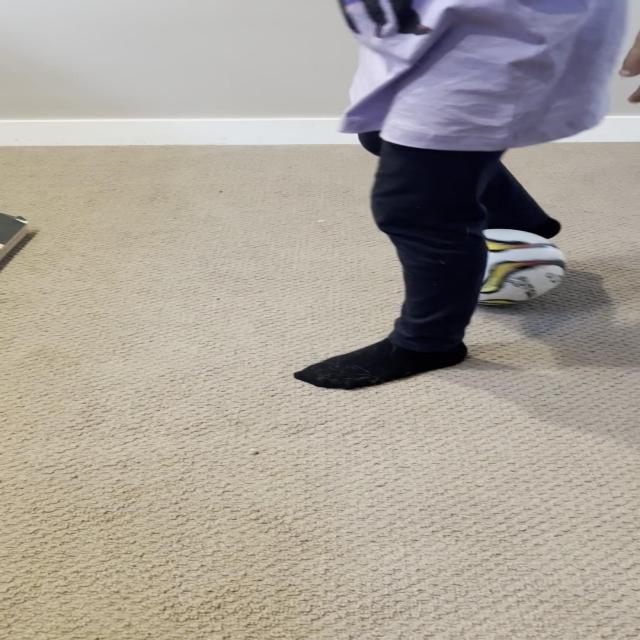Soccer Ball: (434, 228, 567, 307)
